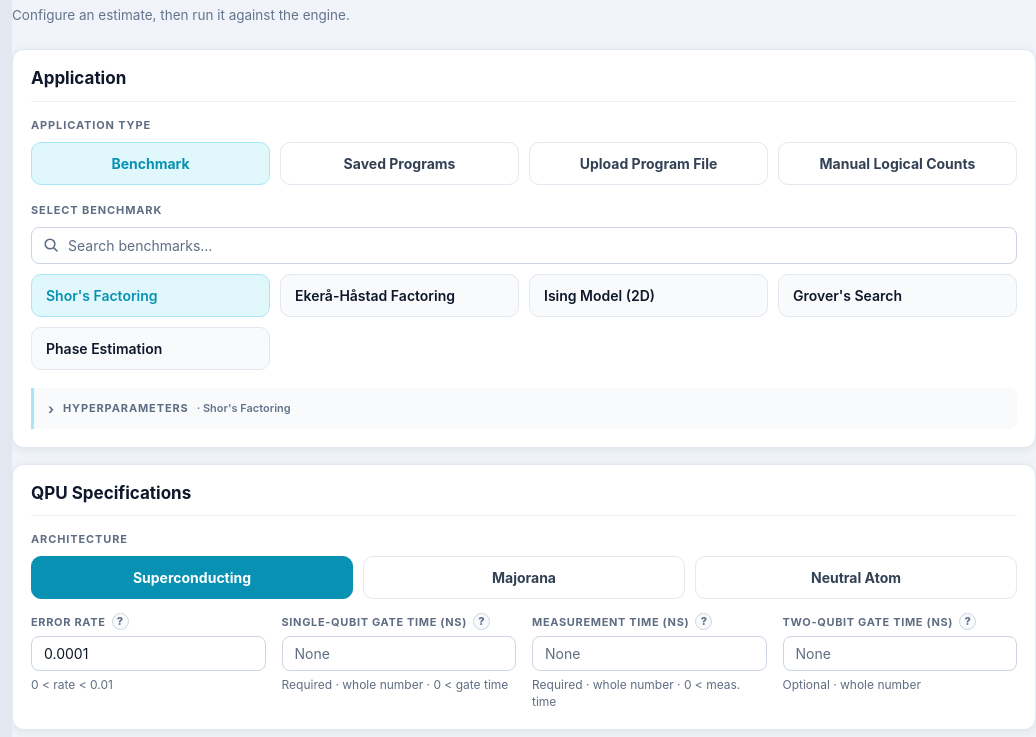
Scenario: Configuration summary reflects the draft › shows the derived QEC code, and updates it when architecture changes
This screenshot has width=1036, height=737.
Click the radio button labelled "Majorana". click: (524, 578)
box: left=363, top=556, right=685, bottom=599
(page scrolled)
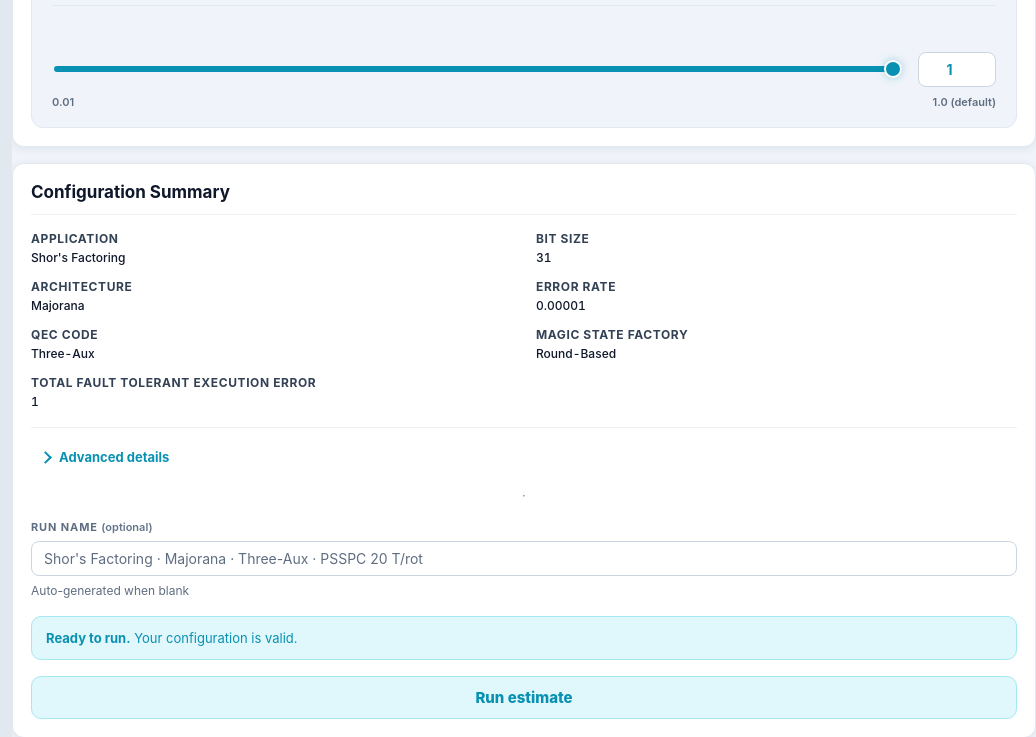
Now the text "Three-Aux" is shown, box left=31, top=346, right=95, bottom=361
